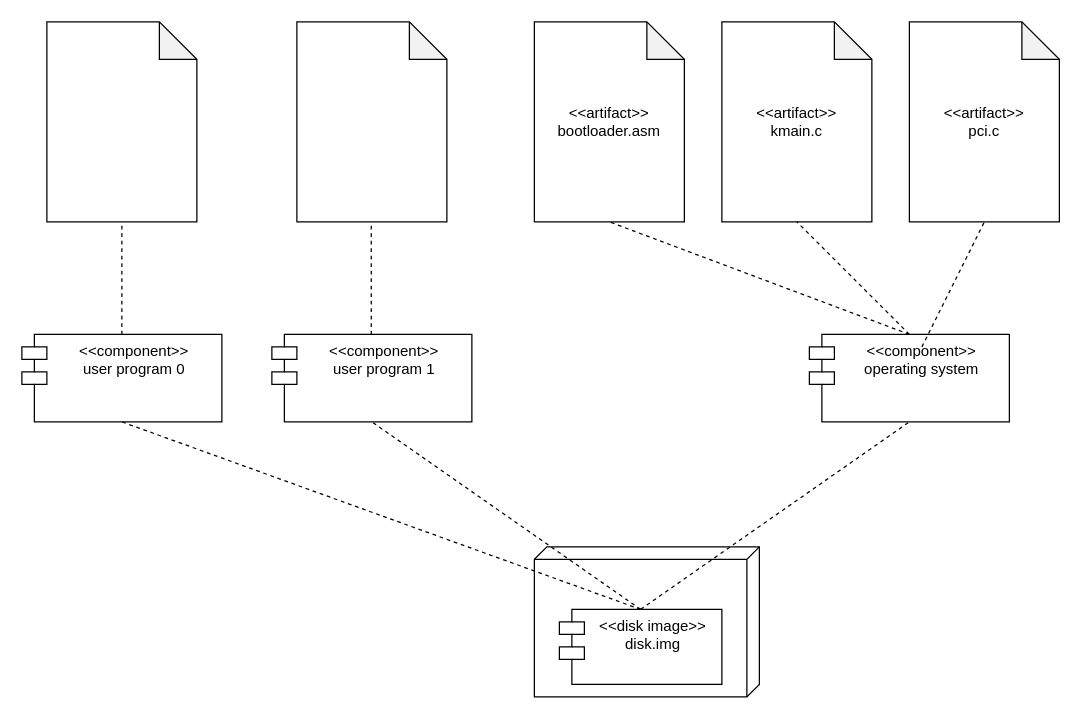
This 1081x719 diagram has some shape labels left out. The box of each missing label's shape, as (x1, y1, x2, y2) in pixels:
<<artifact>> rule22.c: (46, 21, 197, 222)
<<artifact>> test.c: (296, 21, 447, 222)
<<device>> x86: (533, 546, 759, 697)
